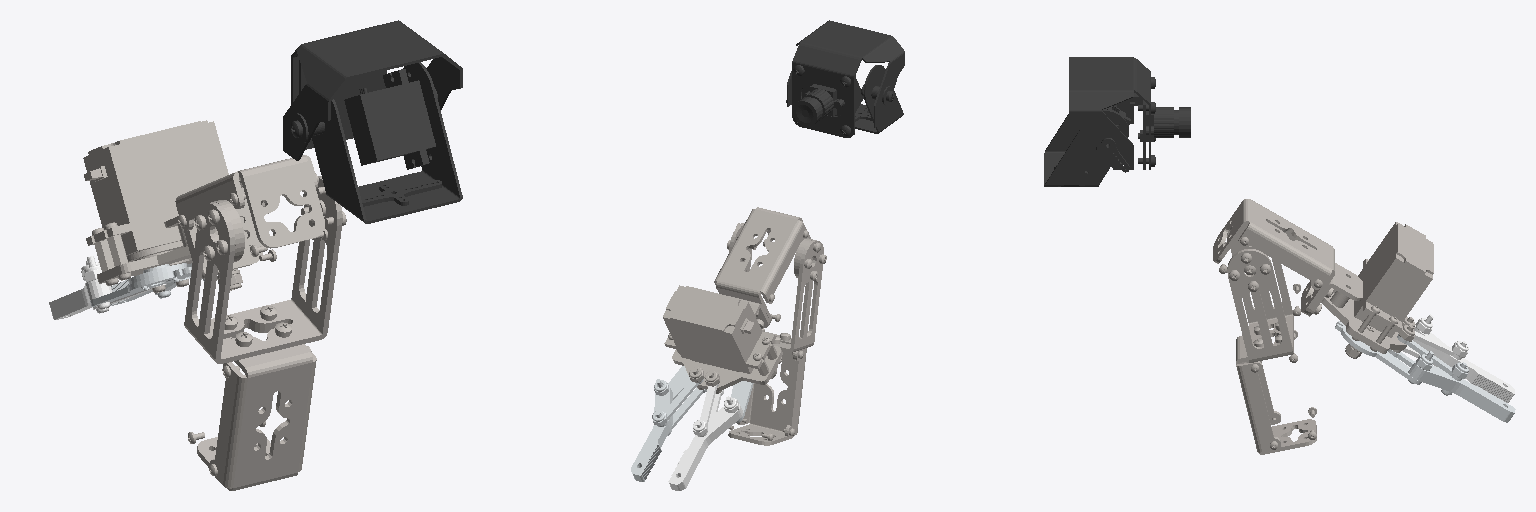
robot.urdf — transbot_se_description:
<?xml version="1.0" encoding="utf-8"?>
<!-- This URDF was automatically created by SolidWorks to URDF Exporter! Originally created by [author] ([email redacted]) 
     Commit Version: 1.6.0-1-g15f4949  Build Version: 1.6.7594.29634
     For more information, please see http://wiki.ros.org/sw_urdf_exporter -->
<robot
  name="transbot_se_description">
  <link name="dummy"> 
</link>
<joint name="dummy_joint" type="fixed">
     <parent link="dummy"/>
     <child link="base_link"/>
</joint>

  <link
    name="base_link">
    <inertial>
      <origin
        xyz="-0.000281773233798663 -0.0167000431708826 0.0114023922141035"
        rpy="0 0 0" />
      <mass
        value="0.838090925273965" />
      <inertia
        ixx="0.000562282476667104"
        ixy="-1.0209781582755E-10"
        ixz="5.7932473322111E-07"
        iyy="0.000857245578583947"
        iyz="-1.1825203475651E-05"
        izz="0.000430923191594654" />
    </inertial>
    <visual>
      <origin
        xyz="0 0 0"
        rpy="0 0 0" />
      <geometry>
        <mesh
          filename="package://transbot_se_description/meshes/base_link.STL" />
      </geometry>
      <material
        name="">
        <color
          rgba="1 1 1 1" />
      </material>
    </visual>
    <collision>
      <origin
        xyz="0 0 0"
        rpy="0 0 0" />
      <geometry>
        <mesh
          filename="package://transbot_se_description/meshes/base_link.STL" />
      </geometry>
    </collision>
  </link>
  <link
    name="arm_Link">
    <inertial>
      <origin
        xyz="-0.0096856801527278 -0.000423631781763906 0.0288288993591901"
        rpy="0 0 0" />
      <mass
        value="0.0556293534204047" />
      <inertia
        ixx="1.72566002136578E-05"
        ixy="-2.44089732106849E-08"
        ixz="2.03496366463756E-06"
        iyy="1.4028460616808E-05"
        iyz="8.4598523411261E-08"
        izz="8.47255854805493E-06" />
    </inertial>
    <visual>
      <origin
        xyz="0 0 0"
        rpy="0 0 0" />
      <geometry>
        <mesh
          filename="package://transbot_se_description/meshes/arm_Link.STL" />
      </geometry>
      <material
        name="">
        <color
          rgba="0.776470588235294 0.756862745098039 0.737254901960784 1" />
      </material>
    </visual>
    <collision>
      <origin
        xyz="0 0 0"
        rpy="0 0 0" />
      <geometry>
        <mesh
          filename="package://transbot_se_description/meshes/arm_Link.STL" />
      </geometry>
    </collision>
  </link>
  <joint
    name="arm_Joint"
    type="revolute">
    <origin
      xyz="0 0.120198749788689 -0.0333970820545944"
      rpy="0 0 1.5707963267949" />
    <parent
      link="base_link" />
    <child
      link="arm_Link" />
    <axis
      xyz="0 1 0" />
    <limit
      lower="-0.2"
      upper="3"
      effort="0"
      velocity="0" />
  </joint>
  <link
    name="arm1_Link">
    <inertial>
      <origin
        xyz="0.0418546272461287 0.00123753861667732 -0.0152665685774125"
        rpy="0 0 0" />
      <mass
        value="0.0966069212673456" />
      <inertia
        ixx="1.36049180249486E-05"
        ixy="6.51708985997289E-08"
        ixz="3.27524915596831E-06"
        iyy="1.296973920314E-05"
        iyz="-1.53980337769876E-08"
        izz="1.68383722239604E-05" />
    </inertial>
    <visual>
      <origin
        xyz="0 0 0"
        rpy="0 0 0" />
      <geometry>
        <mesh
          filename="package://transbot_se_description/meshes/arm1_Link.STL" />
      </geometry>
      <material
        name="">
        <color
          rgba="0.776470588235294 0.756862745098039 0.737254901960784 1" />
      </material>
    </visual>
    <collision>
      <origin
        xyz="0 0 0"
        rpy="0 0 0" />
      <geometry>
        <mesh
          filename="package://transbot_se_description/meshes/arm1_Link.STL" />
      </geometry>
    </collision>
  </link>
  <joint
    name="arm1_Joint"
    type="revolute">
    <origin
      xyz="-0.0180102008145821 -0.000549999999997837 0.0808687527208025"
      rpy="0 0 0" />
    <parent
      link="arm_Link" />
    <child
      link="arm1_Link" />
    <axis
      xyz="0 -1 0" />
    <limit
      lower="-0.2"
      upper="4.3"
      effort="0"
      velocity="0" />
  </joint>
  <link
    name="arm2_Link">
    <inertial>
      <origin
        xyz="0.00533110065743267 0.000953618964365084 -0.00174011470792378"
        rpy="0 0 0" />
      <mass
        value="0.00372122315605217" />
      <inertia
        ixx="2.47547209394844E-07"
        ixy="-8.35342971097109E-08"
        ixz="1.88213715469952E-07"
        iyy="4.19117921304769E-07"
        iyz="5.31037912199309E-08"
        izz="4.23964941988726E-07" />
    </inertial>
    <visual>
      <origin
        xyz="0 0 0"
        rpy="0 0 0" />
      <geometry>
        <mesh
          filename="package://transbot_se_description/meshes/arm2_Link.STL" />
      </geometry>
      <material
        name="">
        <color
          rgba="0.898039215686275 0.917647058823529 0.929411764705882 1" />
      </material>
    </visual>
    <collision>
      <origin
        xyz="0 0 0"
        rpy="0 0 0" />
      <geometry>
        <mesh
          filename="package://transbot_se_description/meshes/arm2_Link.STL" />
      </geometry>
    </collision>
  </link>
  <joint
    name="arm2_Joint"
    type="revolute">
    <origin
      xyz="0.050516 0.012625 -0.040112"
      rpy="0 0 0" />
    <parent
      link="arm1_Link" />
    <child
      link="arm2_Link" />
    <axis
      xyz="0.53648 0 0.84391" />
    <limit
      lower="-0.25"
      upper="1.3"
      effort="0"
      velocity="0" />
  </joint>
  <link
    name="arm2_1_Link">
    <inertial>
      <origin
        xyz="0.016645855945062 -0.00562913779257881 -0.0103208078422344"
        rpy="0 0 0" />
      <mass
        value="0.00705375958029524" />
      <inertia
        ixx="5.38218517803239E-07"
        ixy="2.19928573795371E-07"
        ixz="6.6098564556687E-07"
        iyy="1.51578170464691E-06"
        iyz="-1.398114599104E-07"
        izz="1.15777800012672E-06" />
    </inertial>
    <visual>
      <origin
        xyz="0 0 0"
        rpy="0 0 0" />
      <geometry>
        <mesh
          filename="package://transbot_se_description/meshes/arm2-1_Link.STL" />
      </geometry>
      <material
        name="">
        <color
          rgba="1 1 1 1" />
      </material>
    </visual>
    <collision>
      <origin
        xyz="0 0 0"
        rpy="0 0 0" />
      <geometry>
        <mesh
          filename="package://transbot_se_description/meshes/arm2-1_Link.STL" />
      </geometry>
    </collision>
  </link>
  <joint
    name="arm2_1_Joint"
    type="continuous">
    <origin
      xyz="0.02718 0.007572 -0.011354"
      rpy="0 0 0" />
    <parent
      link="arm2_Link" />
    <child
      link="arm2_1_Link" />
    <axis
      xyz="-0.53648 0 -0.84391" />
    <mimic joint="arm2_Joint" multiplier="1"/>
  </joint>
  <link
    name="arm3_Link">
    <inertial>
      <origin
        xyz="0.0057617500595662 -0.00116492121449901 -0.002477855531104"
        rpy="0 0 0" />
      <mass
        value="0.00321619744439911" />
      <inertia
        ixx="2.34488554444655E-07"
        ixy="8.60383787933755E-08"
        ixz="1.89386514943707E-07"
        iyy="4.20451806274117E-07"
        iyz="-5.46956199098385E-08"
        izz="4.12005658814348E-07" />
    </inertial>
    <visual>
      <origin
        xyz="0 0 0"
        rpy="0 0 0" />
      <geometry>
        <mesh
          filename="package://transbot_se_description/meshes/arm3_Link.STL" />
      </geometry>
      <material
        name="">
        <color
          rgba="0.898039215686275 0.917647058823529 0.929411764705882 1" />
      </material>
    </visual>
    <collision>
      <origin
        xyz="0 0 0"
        rpy="0 0 0" />
      <geometry>
        <mesh
          filename="package://transbot_se_description/meshes/arm3_Link.STL" />
      </geometry>
    </collision>
  </link>
  <joint
    name="arm3_Joint"
    type="continuous">
    <origin
      xyz="0.05065 -0.012375 -0.039901"
      rpy="0 0 0" />
    <parent
      link="arm1_Link" />
    <child
      link="arm3_Link" />
    <axis
      xyz="-0.53648 0 -0.84391" />
    <mimic joint="arm2_Joint" multiplier="1"/>
  </joint>
  <link
    name="arm3_1_Link">
    <inertial>
      <origin
        xyz="0.0166687391465647 0.00553392724921776 -0.010335354971406"
        rpy="0 0 0" />
      <mass
        value="0.00705375958029525" />
      <inertia
        ixx="5.36438713791309E-07"
        ixy="-2.14187926677821E-07"
        ixz="6.62117088597634E-07"
        iyy="1.51828078073783E-06"
        iyz="1.36161672921926E-07"
        izz="1.15705872804773E-06" />
    </inertial>
    <visual>
      <origin
        xyz="0 0 0"
        rpy="0 0 0" />
      <geometry>
        <mesh
          filename="package://transbot_se_description/meshes/arm3-1_Link.STL" />
      </geometry>
      <material
        name="">
        <color
          rgba="0.898039215686275 0.917647058823529 0.929411764705882 1" />
      </material>
    </visual>
    <collision>
      <origin
        xyz="0 0 0"
        rpy="0 0 0" />
      <geometry>
        <mesh
          filename="package://transbot_se_description/meshes/arm3-1_Link.STL" />
      </geometry>
    </collision>
  </link>
  <joint
    name="arm3_1_Joint"
    type="continuous">
    <origin
      xyz="0.0271617295078339 -0.00765467160797112 -0.011342241961699"
      rpy="0 0 0" />
    <parent
      link="arm3_Link" />
    <child
      link="arm3_1_Link" />
    <axis
      xyz="0.536484107525126 0 0.843910423192515" />
    <mimic joint="arm3_Joint" multiplier="1"/>
  </joint>
  <link
    name="arm4_Link">
    <inertial>
      <origin
        xyz="0.0200083035225205 0.00494627153307911 -0.00590190562379105"
        rpy="0 0 0" />
      <mass
        value="0.0024118813152051" />
      <inertia
        ixx="7.24361685218944E-08"
        ixy="-3.03030764932784E-08"
        ixz="5.67875734248229E-08"
        iyy="1.73043207357317E-07"
        iyz="1.92638398966528E-08"
        izz="1.2566457459814E-07" />
    </inertial>
    <visual>
      <origin
        xyz="0 0 0"
        rpy="0 0 0" />
      <geometry>
        <mesh
          filename="package://transbot_se_description/meshes/arm4_Link.STL" />
      </geometry>
      <material
        name="">
        <color
          rgba="1 1 1 1" />
      </material>
    </visual>
    <collision>
      <origin
        xyz="0 0 0"
        rpy="0 0 0" />
      <geometry>
        <mesh
          filename="package://transbot_se_description/meshes/arm4_Link.STL" />
      </geometry>
    </collision>
  </link>
  <joint
    name="arm4_Joint"
    type="continuous">
    <origin
      xyz="0.0658400945663582 0.00450000000000313 -0.0495575871839445"
      rpy="0 0 0" />
    <parent
      link="arm1_Link" />
    <child
      link="arm4_Link" />
    <axis
      xyz="-0.536484107525126 0 -0.843910423192515" />
    <mimic joint="arm3_1_Joint" multiplier="-1"/>
  </joint>
  <link
    name="arm5_Link">
    <inertial>
      <origin
        xyz="0.0200196045215476 -0.00489166816578548 -0.00590908980615274"
        rpy="0 0 0" />
      <mass
        value="0.0024118813152051" />
      <inertia
        ixx="7.22976527496456E-08"
        ixy="2.99883758301886E-08"
        ixz="5.68756295838782E-08"
        iyy="1.7323770149955E-07"
        iyz="-1.90641687429208E-08"
        izz="1.25608596228156E-07" />
    </inertial>
    <visual>
      <origin
        xyz="0 0 0"
        rpy="0 0 0" />
      <geometry>
        <mesh
          filename="package://transbot_se_description/meshes/arm5_Link.STL" />
      </geometry>
      <material
        name="">
        <color
          rgba="0.898039215686275 0.917647058823529 0.929411764705882 1" />
      </material>
    </visual>
    <collision>
      <origin
        xyz="0 0 0"
        rpy="0 0 0" />
      <geometry>
        <mesh
          filename="package://transbot_se_description/meshes/arm5_Link.STL" />
      </geometry>
    </collision>
  </link>
  <joint
    name="arm5_Joint"
    type="continuous">
    <origin
      xyz="0.06584 -0.0045 -0.049558"
      rpy="0 0 0" />
    <parent
      link="arm1_Link" />
    <child
      link="arm5_Link" />
    <axis
      xyz="-0.53648 0 -0.84391" />
    <mimic joint="arm2_1_Joint" multiplier="1"/>
  </joint>
  <link
    name="camera_Link">
    <inertial>
      <origin
        xyz="0.0124745727755681 -0.00207256671839658 0.0178409339377828"
        rpy="0 0 0" />
      <mass
        value="0.0112135776912509" />
      <inertia
        ixx="1.63384457991591E-06"
        ixy="-1.46379113020932E-09"
        ixz="-2.6902105680484E-07"
        iyy="9.64426634075814E-07"
        iyz="8.38151934597846E-09"
        izz="1.37591235768634E-06" />
    </inertial>
    <visual>
      <origin
        xyz="0 0 0"
        rpy="0 0 0" />
      <geometry>
        <mesh
          filename="package://transbot_se_description/meshes/camera_Link.STL" />
      </geometry>
      <material
        name="">
        <color
          rgba="0.298039215686275 0.298039215686275 0.298039215686275 1" />
      </material>
    </visual>
    <collision>
      <origin
        xyz="0 0 0"
        rpy="0 0 0" />
      <geometry>
        <mesh
          filename="package://transbot_se_description/meshes/camera_Link.STL" />
      </geometry>
    </collision>
  </link>
  <joint
    name="camera_Joint"
    type="revolute">
    <origin
      xyz="0 0.0200500000000007 0.0895"
      rpy="0 0 1.5707963267949" />
    <parent
      link="base_link" />
    <child
      link="camera_Link" />
    <axis
      xyz="0 0 -1" />
    <limit
      lower="-1.7"
      upper="1.6"
      effort="0"
      velocity="0" />
  </joint>
  <link
    name="camera1_Link">
    <inertial>
      <origin
        xyz="0.0159432889142395 0.0252437989571216 0.00361673266663036"
        rpy="0 0 0" />
      <mass
        value="0.0112044213382942" />
      <inertia
        ixx="1.93675132932062E-06"
        ixy="2.02450305196728E-09"
        ixz="2.60840503625066E-07"
        iyy="1.51811750182564E-06"
        iyz="4.43475238569602E-09"
        izz="1.96635232607962E-06" />
    </inertial>
    <visual>
      <origin
        xyz="0 0 0"
        rpy="0 0 0" />
      <geometry>
        <mesh
          filename="package://transbot_se_description/meshes/camera1_Link.STL" />
      </geometry>
      <material
        name="">
        <color
          rgba="0.298039215686275 0.298039215686275 0.298039215686275 1" />
      </material>
    </visual>
    <collision>
      <origin
        xyz="0 0 0"
        rpy="0 0 0" />
      <geometry>
        <mesh
          filename="package://transbot_se_description/meshes/camera1_Link.STL" />
      </geometry>
    </collision>
  </link>
  <joint
    name="camera1_Joint"
    type="revolute">
    <origin
      xyz="0.0168644547139673 -0.0255500000000001 0.0239594573119259"
      rpy="0 0 0" />
    <parent
      link="camera_Link" />
    <child
      link="camera1_Link" />
    <axis
      xyz="0 1 0" />
    <limit
      lower="-1.45"
      upper="0.63"
      effort="0"
      velocity="0" />
  </joint>
</robot>

--- Facts derived from the render (not from the file) ---
The picture shows the robot from 3 angles, left to right: view 1: azimuth 30°, elevation 25°; view 2: azimuth 150°, elevation 25°; view 3: azimuth 270°, elevation 25°; orthographic projection.
Robot: transbot_se_description — 12 links, 11 joints (5 revolute, 5 continuous, 1 fixed); root link dummy; default pose: every joint at zero.
Visible links, largest first — view 1: arm_Link, arm1_Link, camera_Link, camera1_Link, arm2_1_Link, arm2_Link; view 2: arm1_Link, camera1_Link, arm_Link, arm2_1_Link, camera_Link, arm3_1_Link, arm5_Link, arm4_Link; view 3: arm1_Link, arm_Link, camera1_Link, camera_Link, arm3_1_Link, arm2_1_Link, arm5_Link, arm3_Link, arm4_Link.
Link boxes in pixels (bbox=[...]): arm_Link: bbox=[184, 176, 346, 490]; arm1_Link: bbox=[83, 120, 327, 292]; camera_Link: bbox=[291, 62, 462, 223]; camera1_Link: bbox=[283, 20, 462, 160]; arm2_1_Link: bbox=[49, 256, 112, 319]; arm2_Link: bbox=[90, 263, 191, 306]; arm1_Link: bbox=[663, 207, 810, 393]; camera1_Link: bbox=[786, 20, 904, 137]; arm_Link: bbox=[727, 223, 826, 445]; arm2_1_Link: bbox=[668, 396, 742, 490]; camera_Link: bbox=[855, 65, 903, 133]; arm3_1_Link: bbox=[631, 379, 672, 481]; arm5_Link: bbox=[652, 379, 706, 435]; arm4_Link: bbox=[693, 383, 723, 436]; arm1_Link: bbox=[1213, 199, 1433, 358]; arm_Link: bbox=[1227, 225, 1316, 454]; camera1_Link: bbox=[1069, 57, 1190, 172]; camera_Link: bbox=[1044, 99, 1130, 186]; arm3_1_Link: bbox=[1408, 351, 1515, 422]; arm2_1_Link: bbox=[1413, 314, 1514, 402]; arm5_Link: bbox=[1388, 334, 1468, 395]; arm3_Link: bbox=[1335, 321, 1421, 384]; arm4_Link: bbox=[1402, 331, 1468, 366].
Bounding box of the posed robot: 0.0565 × 0.2168 × 0.1876 m (x, y, z).
Meshes: 11 distinct files referenced, 10 mesh visuals loaded (10 binary STL); not drawn: 1 (reference not matched to a file when rendering).